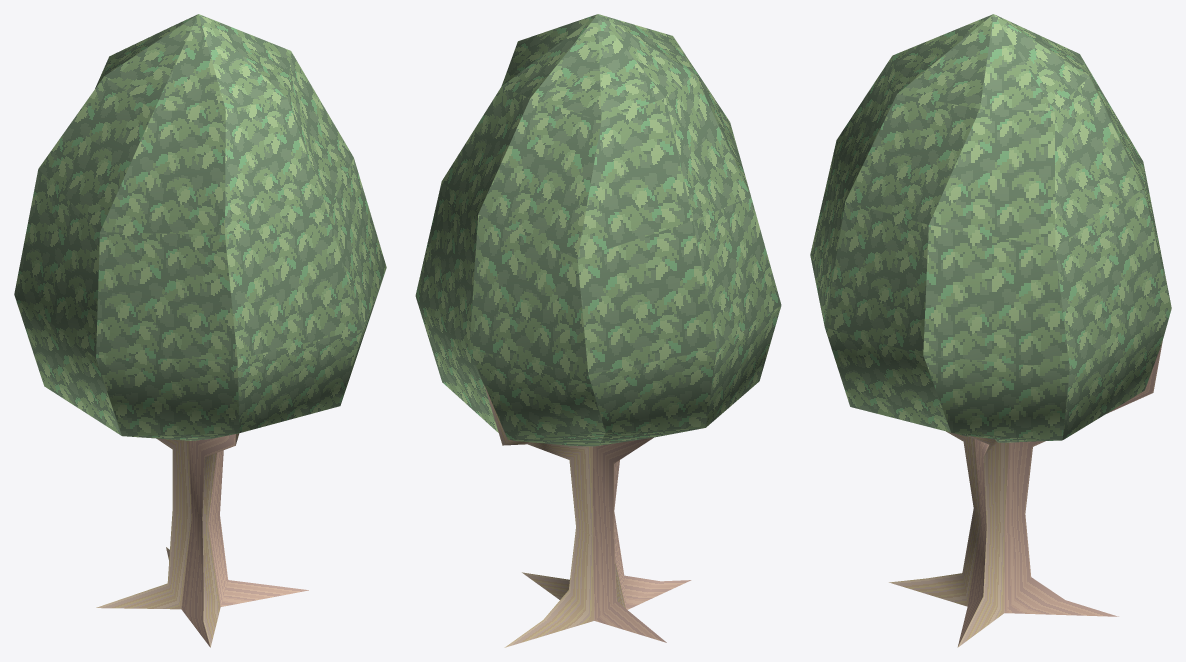
The model's file is 0114_Regular_Tree.glb.
The picture shows the model from 3 angles, left to right: view 1: azimuth 30°, elevation 25°; view 2: azimuth 150°, elevation 25°; view 3: azimuth 270°, elevation 25°; orthographic projection.
Parts seen in each view (by area): view 1: part_0; view 2: part_0; view 3: part_0.
Boxes of the visible parts, x1=… form: part_0: x1=14, y1=14, x2=386, y2=647; part_0: x1=415, y1=14, x2=781, y2=647; part_0: x1=810, y1=14, x2=1171, y2=647.
Size of the model in its own units: 3.23 by 5.95 by 3.32.
Materials: 1 (1 with a texture image).
